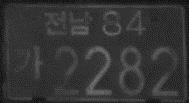2: (83, 45, 114, 96), (150, 45, 179, 97), (53, 44, 80, 96)
4: (125, 9, 146, 36)
8: (117, 44, 145, 96), (101, 10, 122, 36)
가: (12, 44, 46, 80)
전남_O: (44, 9, 93, 35)
